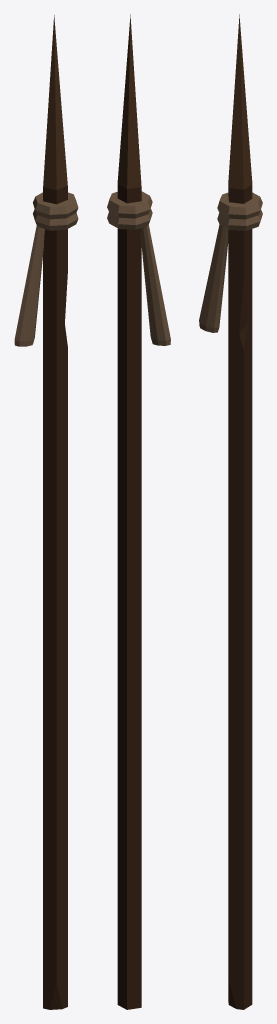
Rendered from Cave_Lair_Weapon_Wooden_Timber_Spear_01.fbx.
The picture shows the model from 3 angles, left to right: view 1: azimuth 30°, elevation 25°; view 2: azimuth 150°, elevation 25°; view 3: azimuth 330°, elevation 25°; orthographic projection.
Visible parts, largest first — view 1: Cave_Lair_Weapon_Wooden_Timber_Spear_01; view 2: Cave_Lair_Weapon_Wooden_Timber_Spear_01; view 3: Cave_Lair_Weapon_Wooden_Timber_Spear_01.
Part boxes in pixels (bbox=[...]): Cave_Lair_Weapon_Wooden_Timber_Spear_01: bbox=[14, 15, 78, 1009]; Cave_Lair_Weapon_Wooden_Timber_Spear_01: bbox=[107, 14, 170, 1009]; Cave_Lair_Weapon_Wooden_Timber_Spear_01: bbox=[199, 14, 262, 1009].
Bounding box in the file's own units: 0.1224 × 1.88 × 0.0814.
